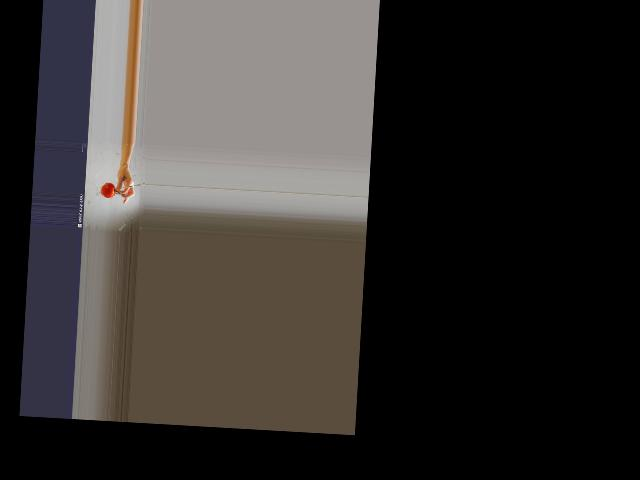tomato: (99, 181, 115, 197)
